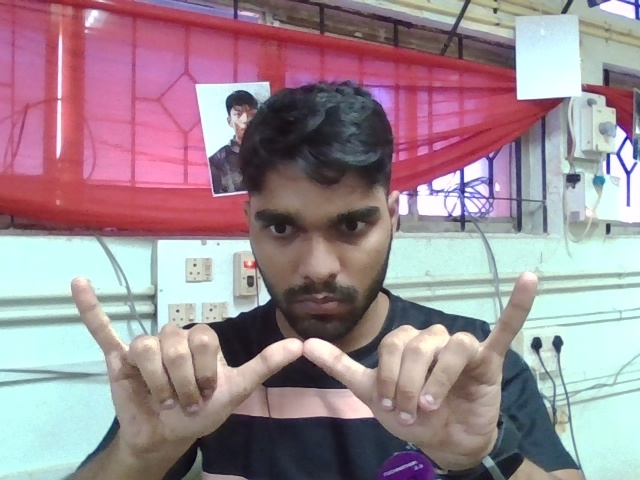play: (56, 253, 551, 470)
